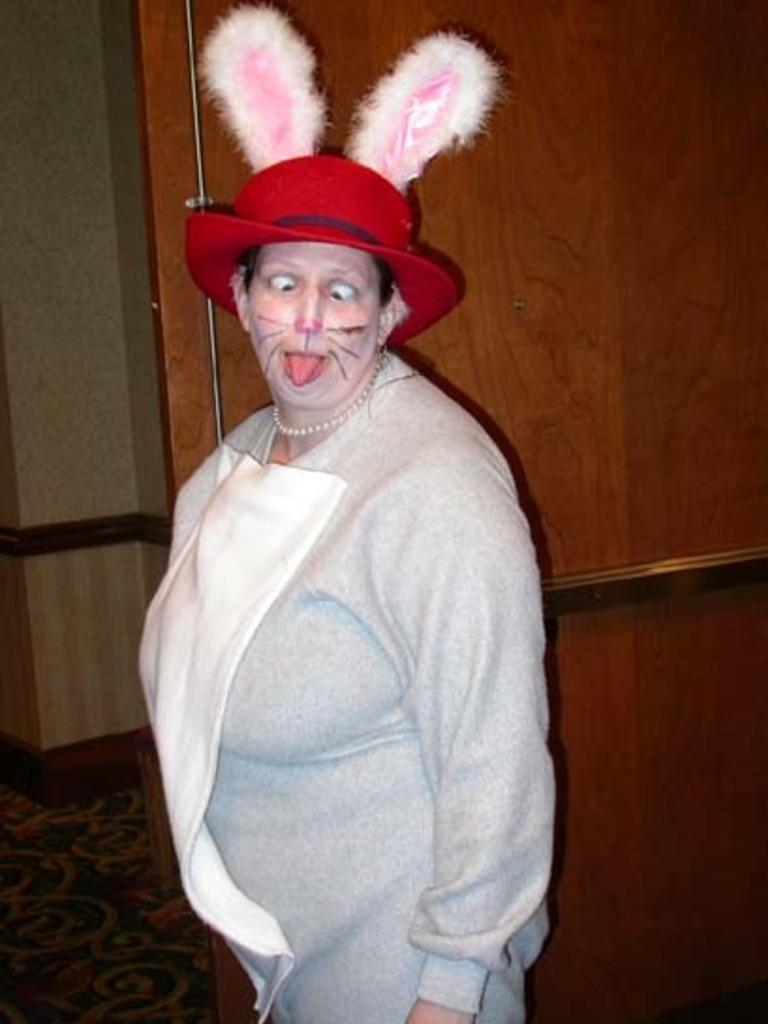Hat: (187, 148, 465, 349)
